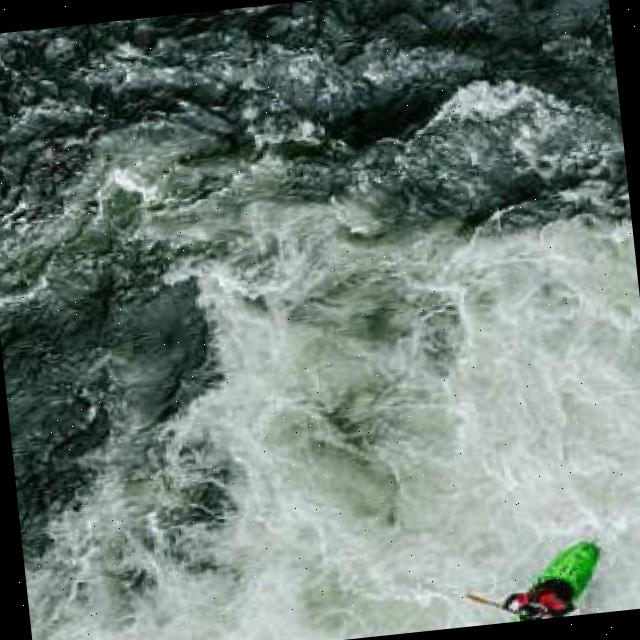kayak: (508, 543, 596, 622)
